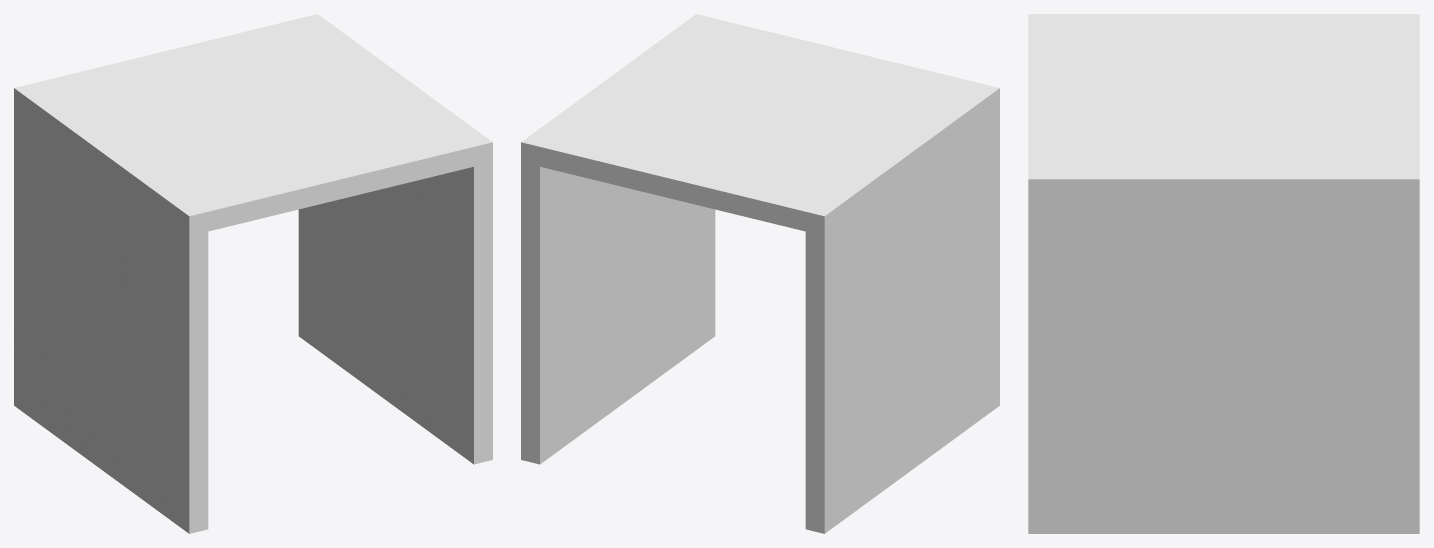
File: simple_glass_table.obj
3 views of the same model, side by side, from view 1: azimuth 30°, elevation 25°; view 2: azimuth 150°, elevation 25°; view 3: azimuth 270°, elevation 25° (orthographic). The views are drawn at different scales.
Parts seen in each view (by area): view 1: cube.001, cube, cube.000; view 2: cube.001, cube, cube.000; view 3: cube.000, cube, cube.001.
Part boxes in pixels (x1=…): cube.001: x1=14, y1=83, x2=208, y2=533; cube: x1=33, y1=18, x2=473, y2=231; cube.000: x1=298, y1=14, x2=492, y2=464; cube.001: x1=805, y1=83, x2=999, y2=533; cube: x1=540, y1=18, x2=980, y2=231; cube.000: x1=521, y1=14, x2=715, y2=464; cube.000: x1=1028, y1=169, x2=1419, y2=533; cube: x1=1028, y1=24, x2=1419, y2=168; cube.001: x1=1028, y1=14, x2=1419, y2=24.
Size of the model in its own units: 1 by 1 by 1.
